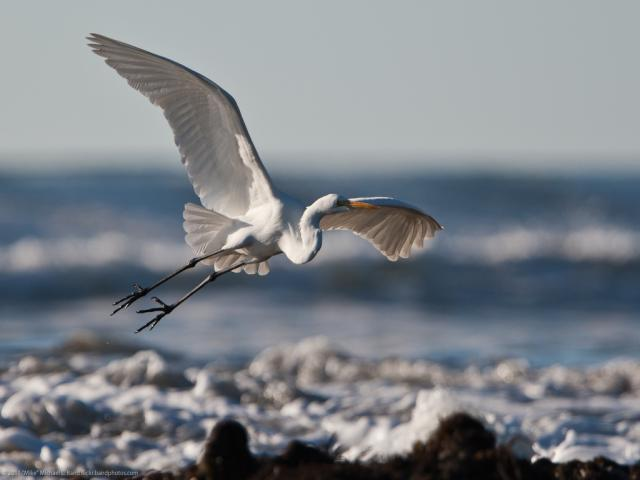Bird: (85, 34, 442, 333)
